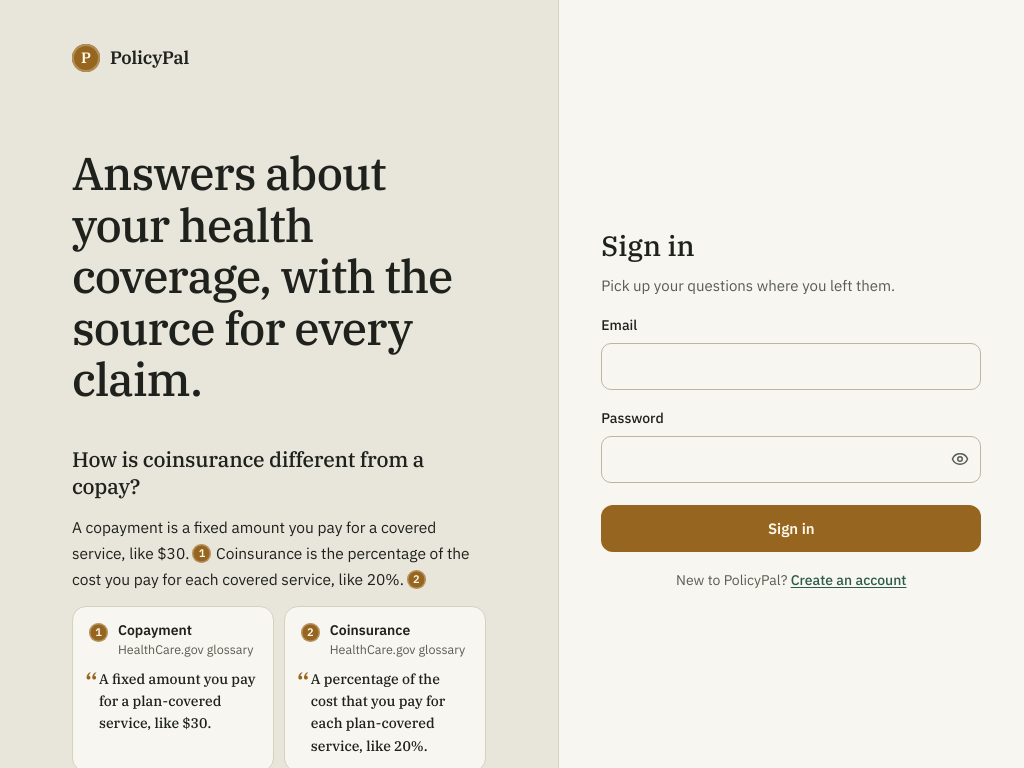
AuthPage › navigates between the two modes
This screenshot has width=1024, height=768.
What coordinates should you click on to do the following:
click the button "Create an account"
I would click on:
 (848, 581)
Its box is 791,570 -> 906,592.
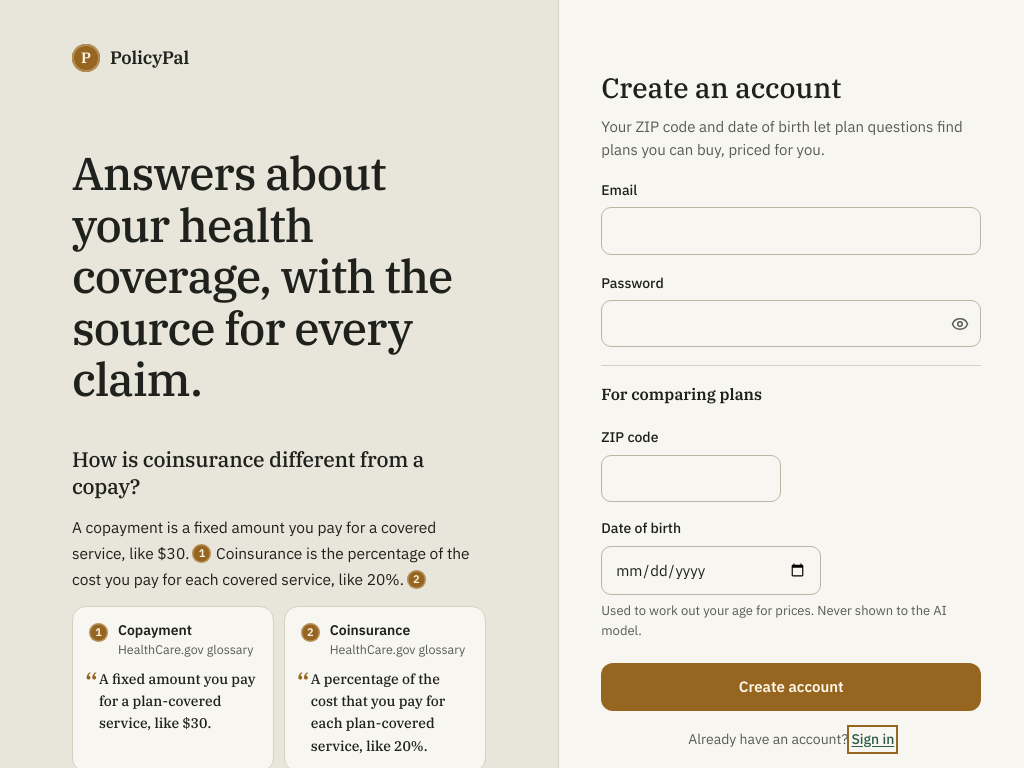
Now the button "Create account" is shown, box 601,663 -> 981,711
What coordinates should you click on to do the following:
click the button "Sign in"
I would click on:
 (873, 740)
Its box is 852,729 -> 894,750.
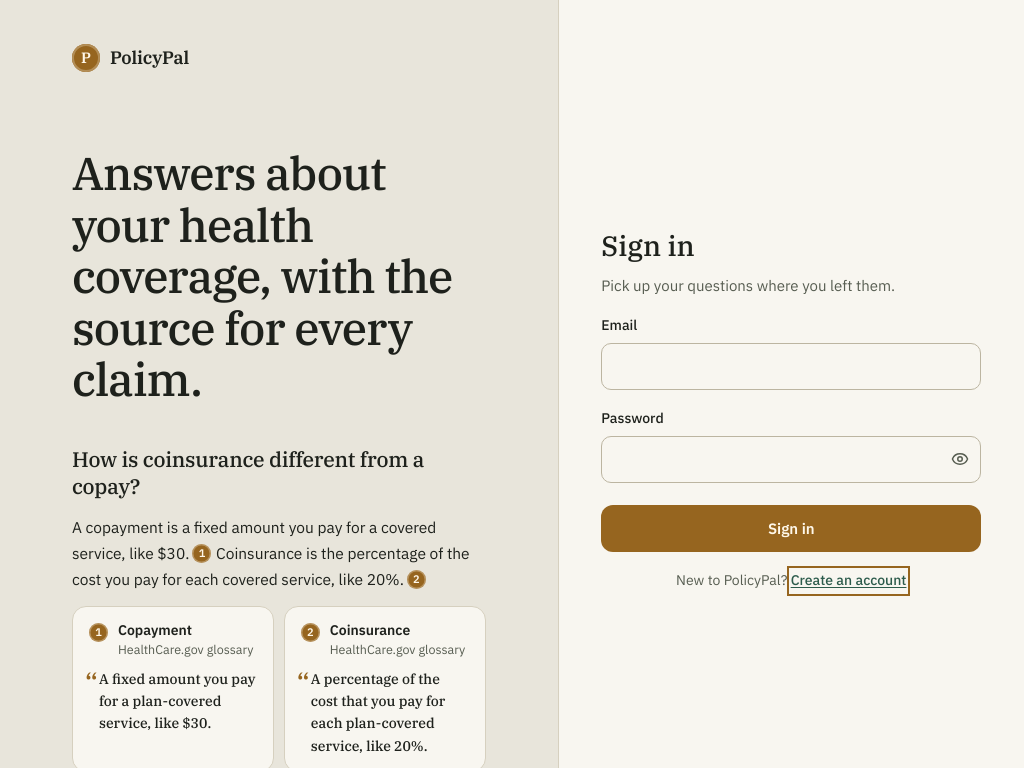
Now the button "Sign in" is shown, box 601,505 -> 981,552
